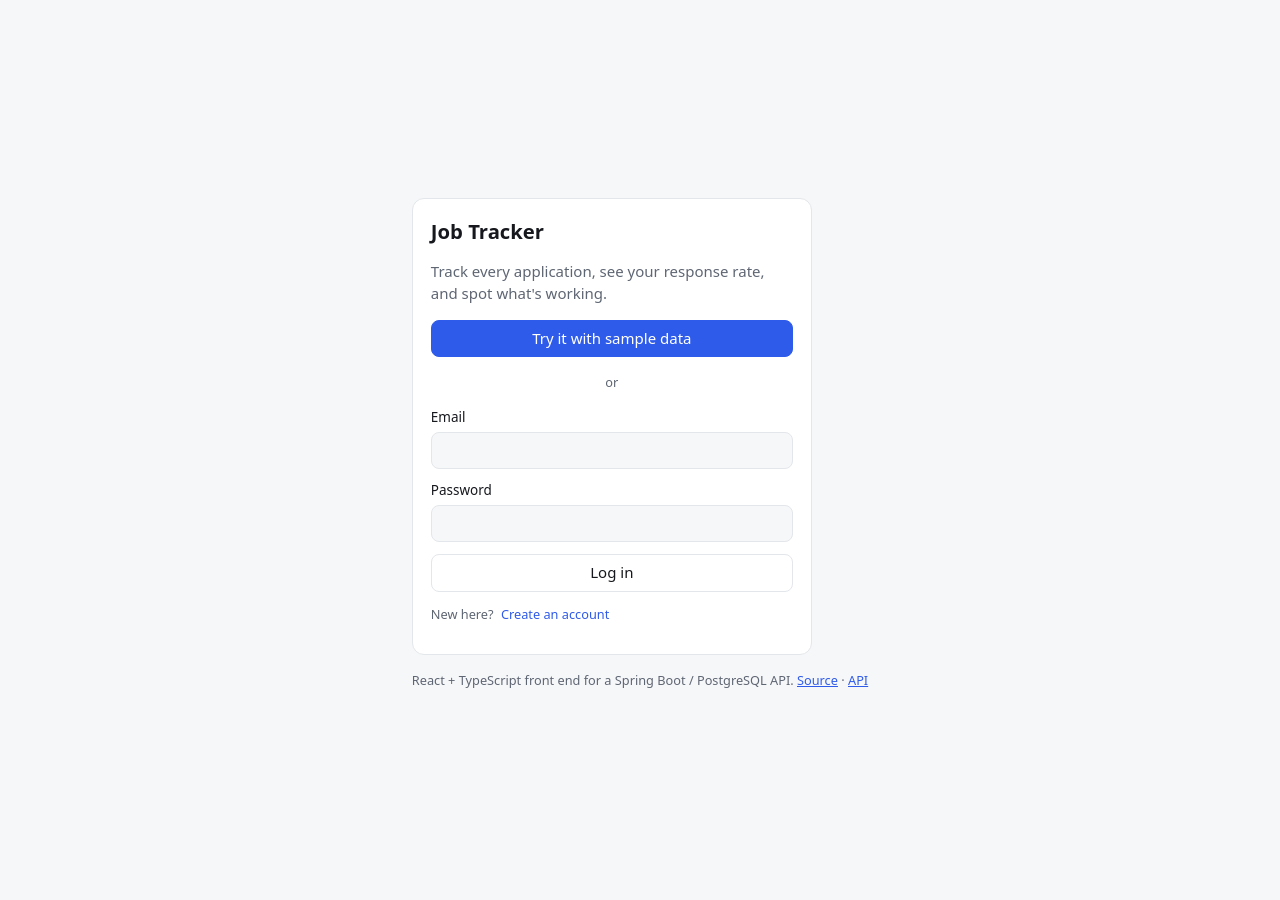
Test: Job Tracker › creates a demo account with sample data in one click
The width and height of the screenshot is (1280, 900).
Click the button "Try it with sample data": point(612, 339) [431,320,793,358]
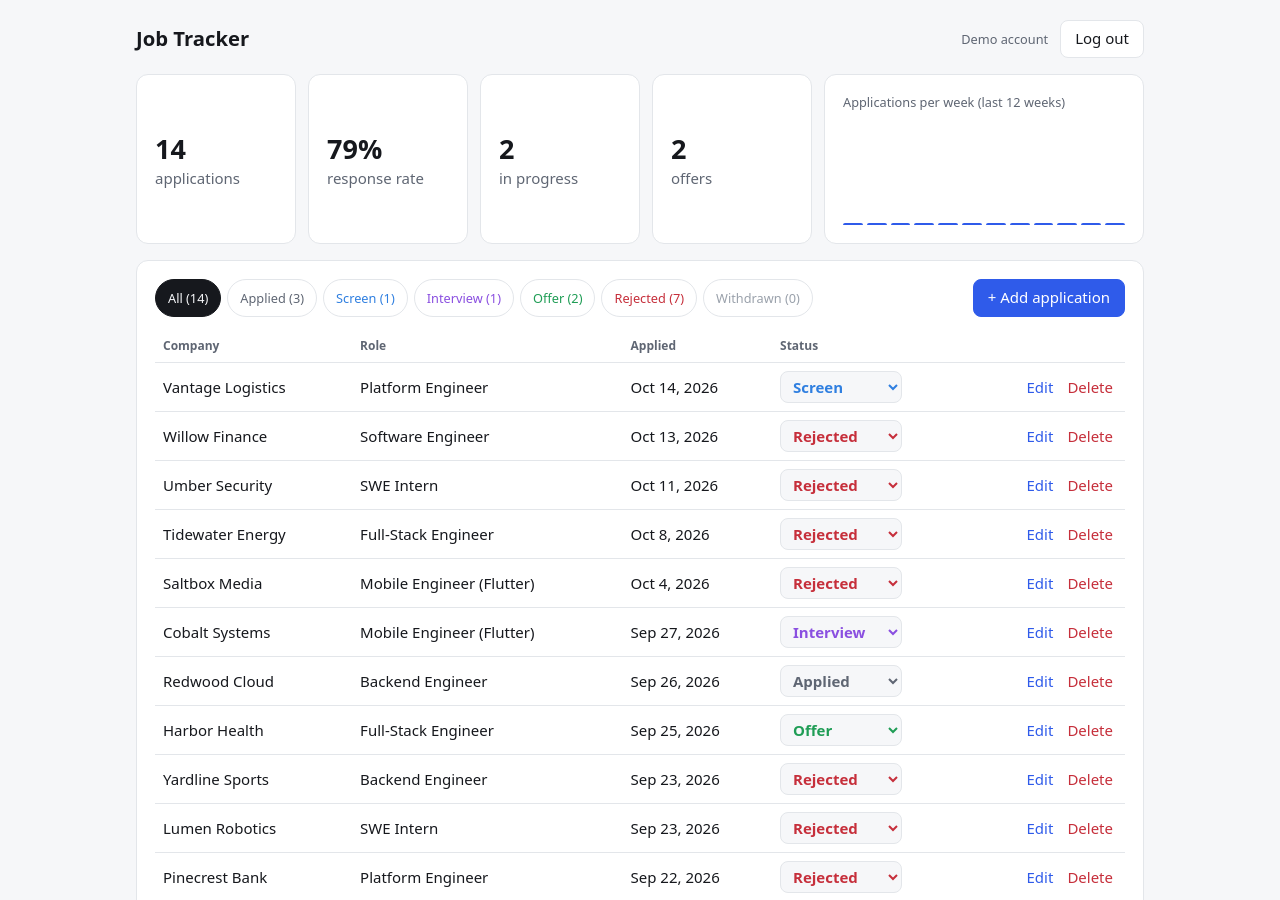
Expected: the text "Demo account" is shown, [961,30,1048,48]
Expected: the number of rows is 15
